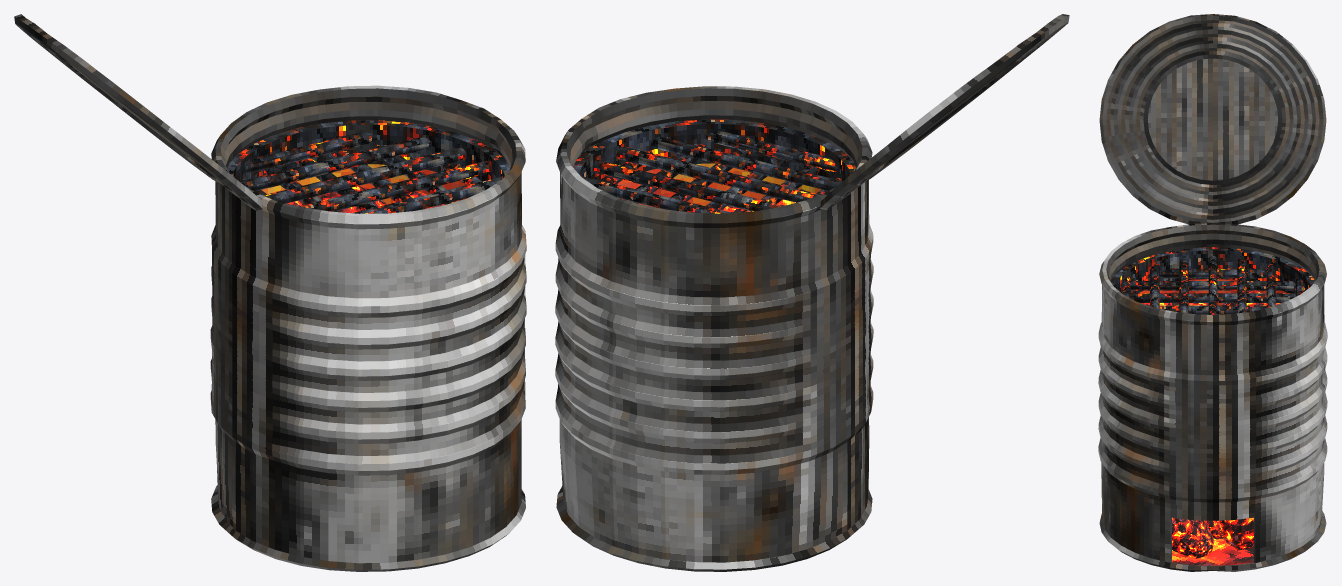
Rendered from fire_can_stove_128x128_psx_retro.glb.
The picture shows the model from 3 angles, left to right: view 1: azimuth 30°, elevation 25°; view 2: azimuth 150°, elevation 25°; view 3: azimuth 270°, elevation 25°; orthographic projection. The views are drawn at different scales.
Parts seen in each view (by area): view 1: Can Closed.013, Grill Top Cut.005, Can Inner Ring, Can Lid, Grill Top Cut.006; view 2: Can Closed.013, Grill Top Cut.005, Can Inner Ring, Can Lid, Grill Top Cut.006; view 3: Can Closed.013, Can Lid, Grill Top Cut.006, Can Inner Ring, Hot Coal Small, Grill Top Cut.005.
Part boxes in pixels (bbox=[...]): Can Closed.013: bbox=[210, 85, 526, 571]; Grill Top Cut.005: bbox=[239, 132, 502, 213]; Can Inner Ring: bbox=[227, 120, 510, 181]; Can Lid: bbox=[14, 14, 262, 210]; Grill Top Cut.006: bbox=[242, 145, 482, 211]; Can Closed.013: bbox=[555, 86, 873, 571]; Grill Top Cut.005: bbox=[581, 131, 842, 213]; Can Inner Ring: bbox=[573, 119, 855, 180]; Can Lid: bbox=[820, 14, 1069, 209]; Grill Top Cut.006: bbox=[601, 144, 841, 212]; Can Closed.013: bbox=[1098, 223, 1327, 571]; Can Lid: bbox=[1099, 14, 1326, 224]; Grill Top Cut.006: bbox=[1130, 268, 1295, 314]; Can Inner Ring: bbox=[1111, 247, 1314, 293]; Hot Coal Small: bbox=[1141, 290, 1281, 558]; Grill Top Cut.005: bbox=[1121, 256, 1304, 315].
Size of the model in its own units: 0.2438 by 0.2781 by 0.145.
1 material, 1 textured.
